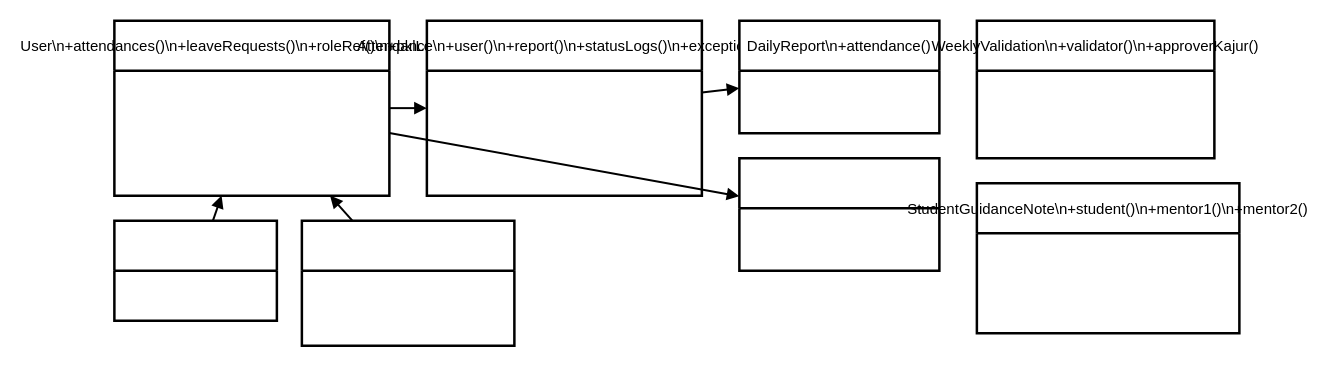
This 1329x366 diagram has some shape labels left out. Each missing label, with the box of its shape:
LeaveRequest\n+user(): (738, 156, 940, 271)
PklLocation\n+students()\n+attendances(): (300, 219, 515, 346)
Role\n+users(): (112, 219, 278, 321)
